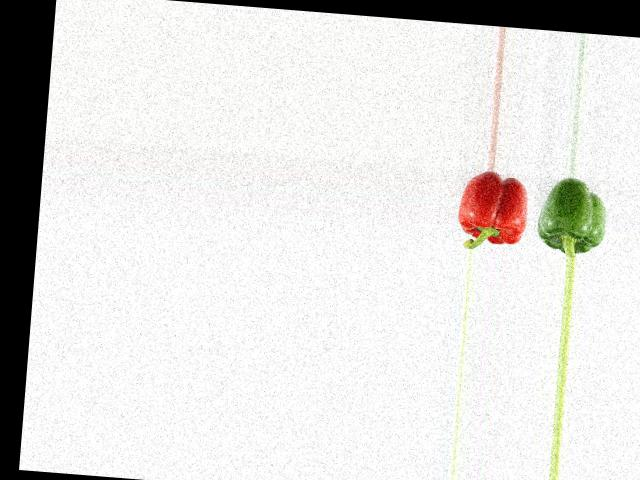bell_pepper: (532, 178, 611, 258)
